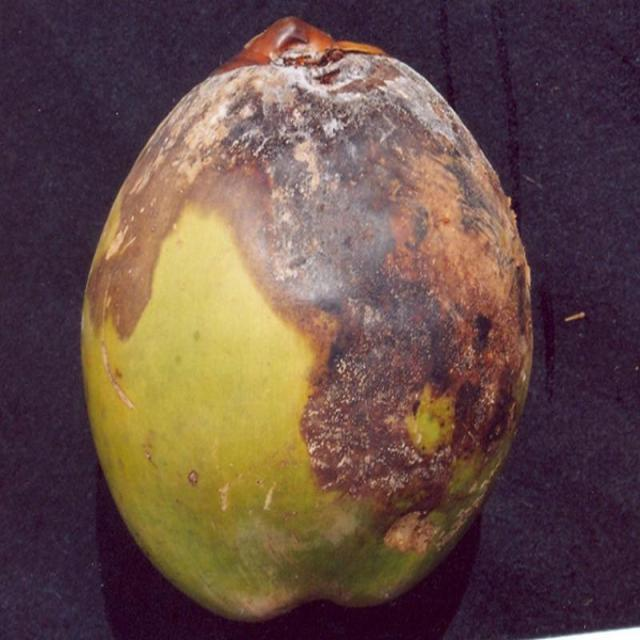damaged: (82, 17, 532, 618)
